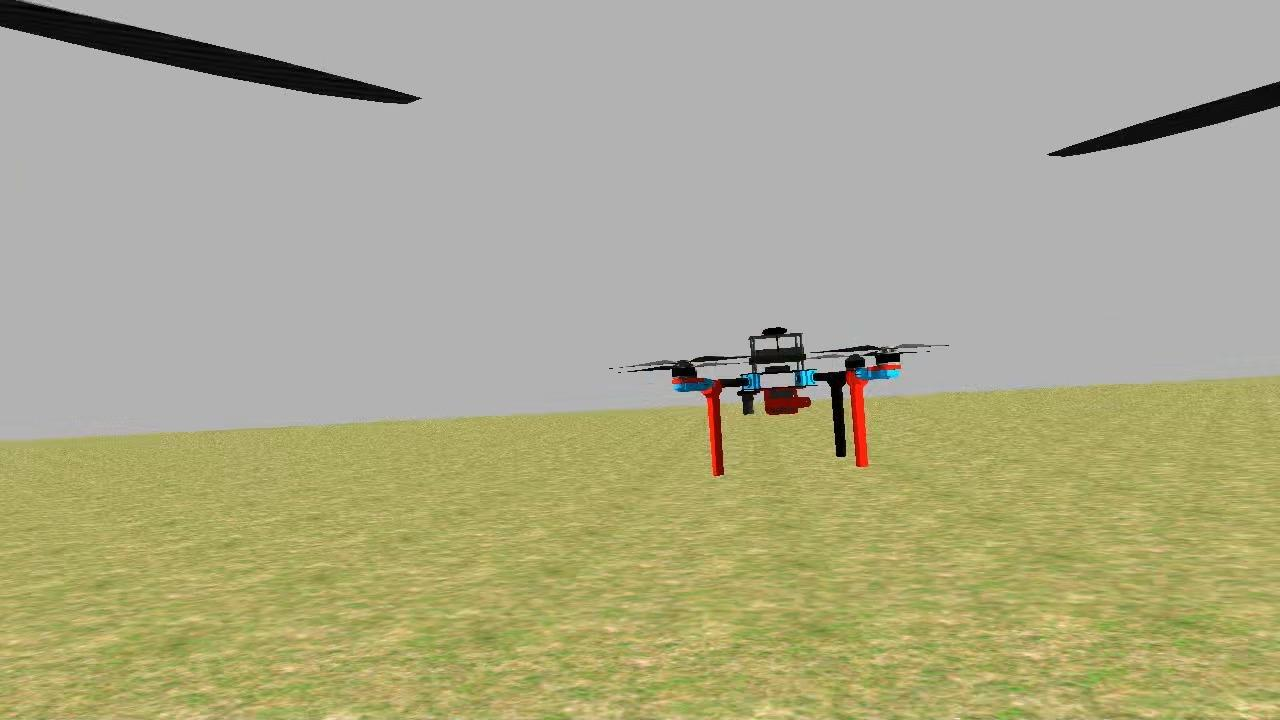UAV: (649, 307, 904, 481)
